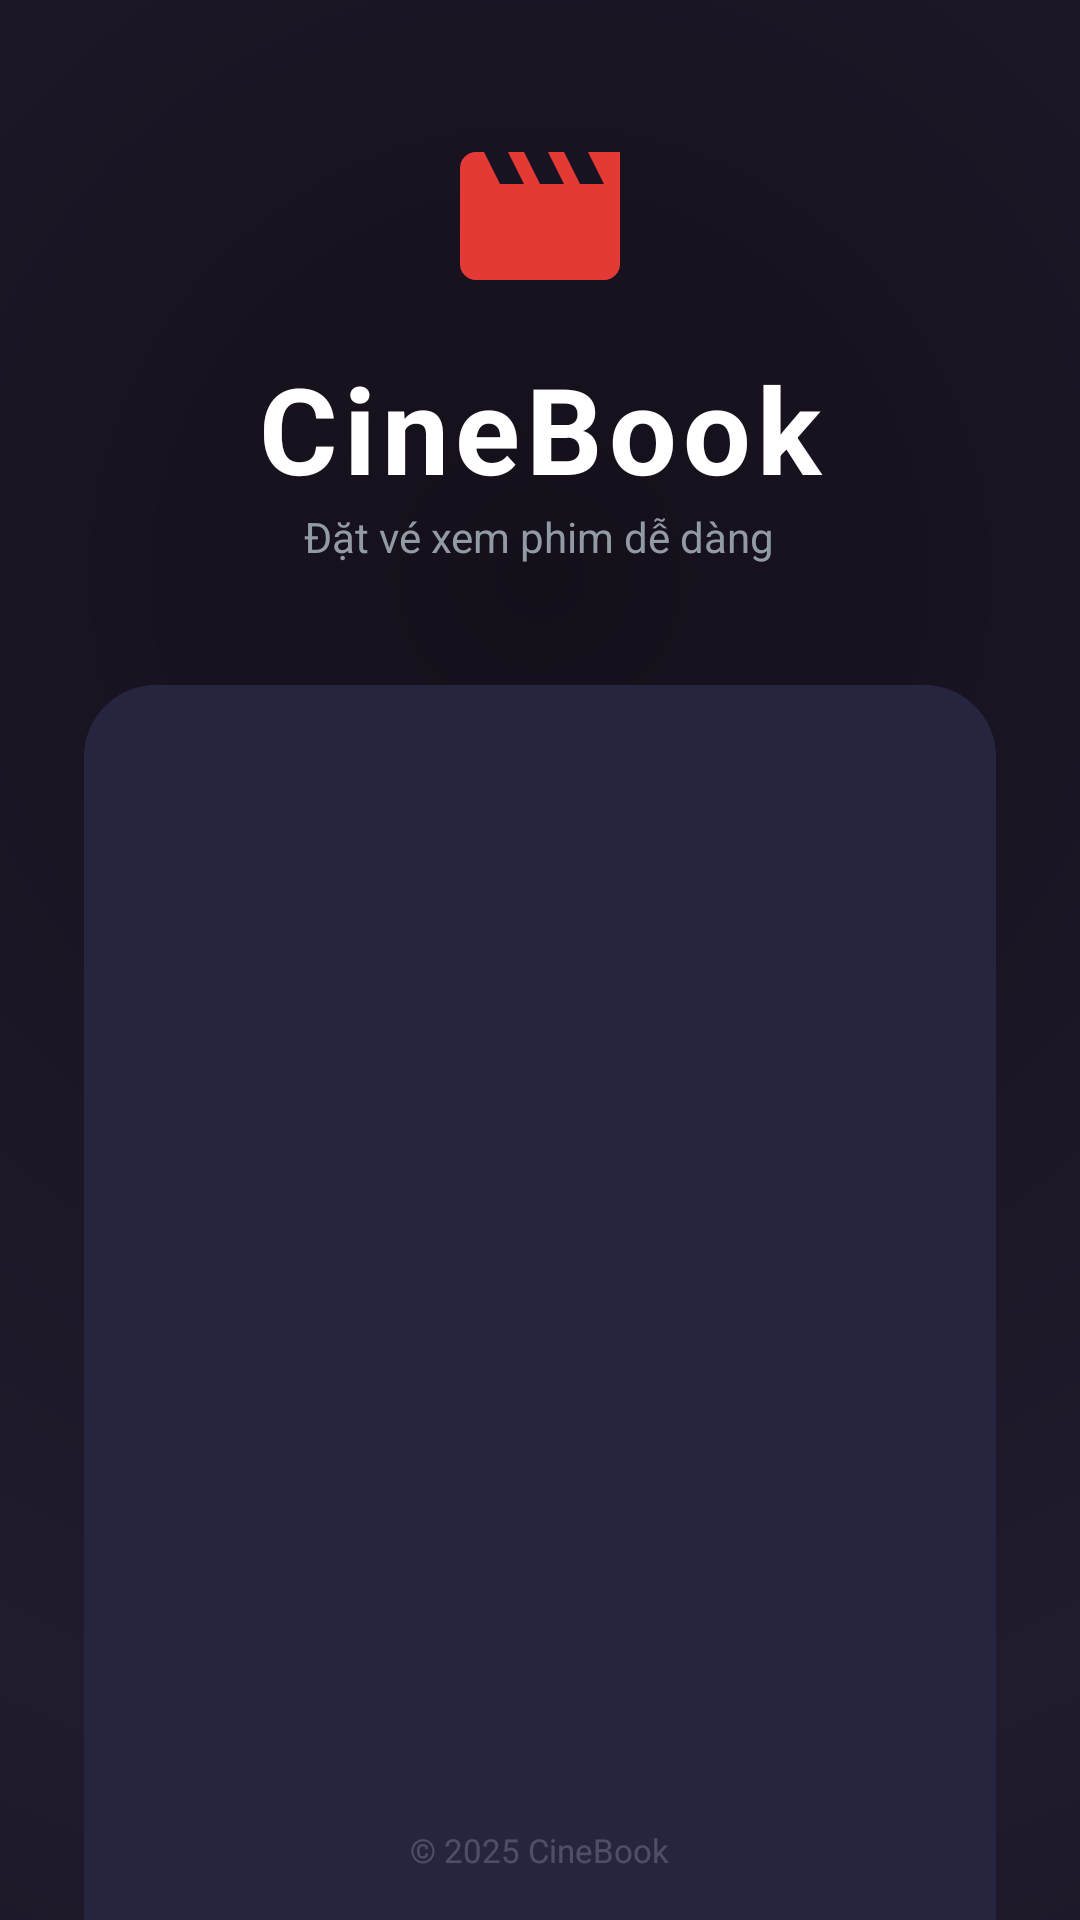

Icons on this 1080 × 1920 Android screen, each with the point to tap as (x,y):
movie: (540,216)
